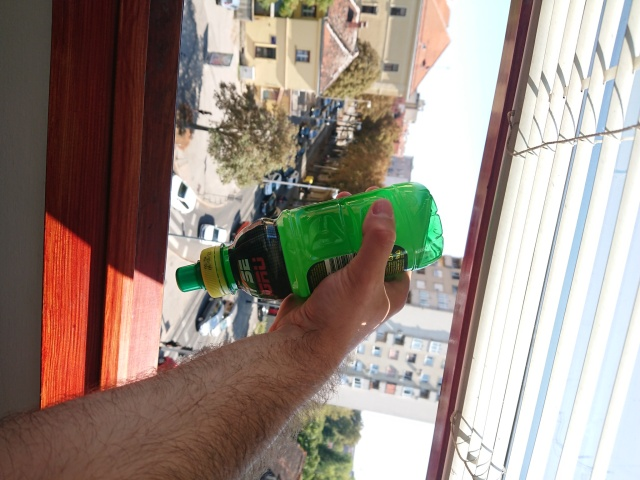Vindi Iso Sport Lemon-Grapefruit 500mL: (173, 179, 446, 303)
